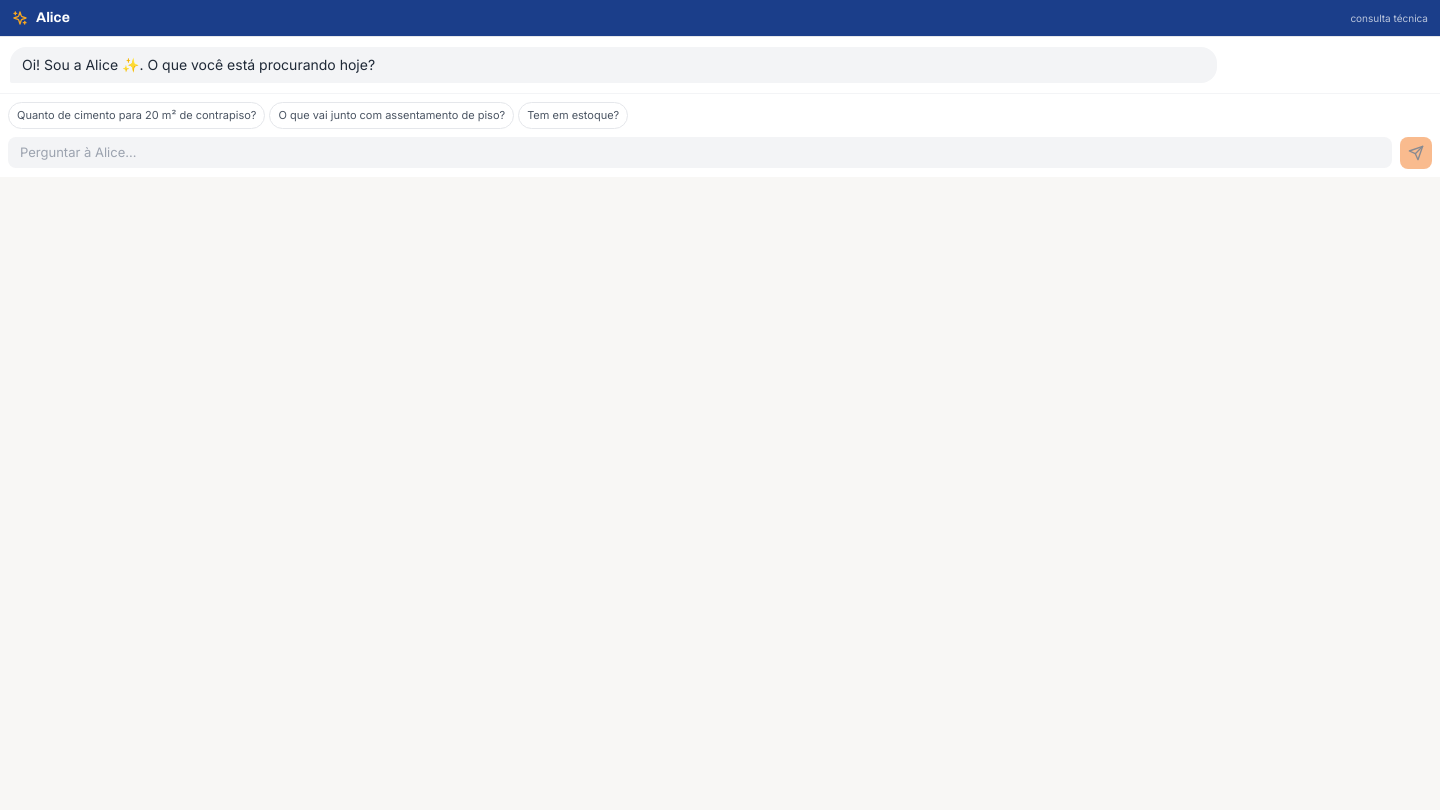
Test: AliceBalcao › responde e renderiza a lista de materiais com total
This screenshot has width=1440, height=810.
Step 1. Type "quanto de cimento para o contrapiso?" into the field named "mensagem para a alice no balcão" → (700, 153), box [8,137,1392,168]
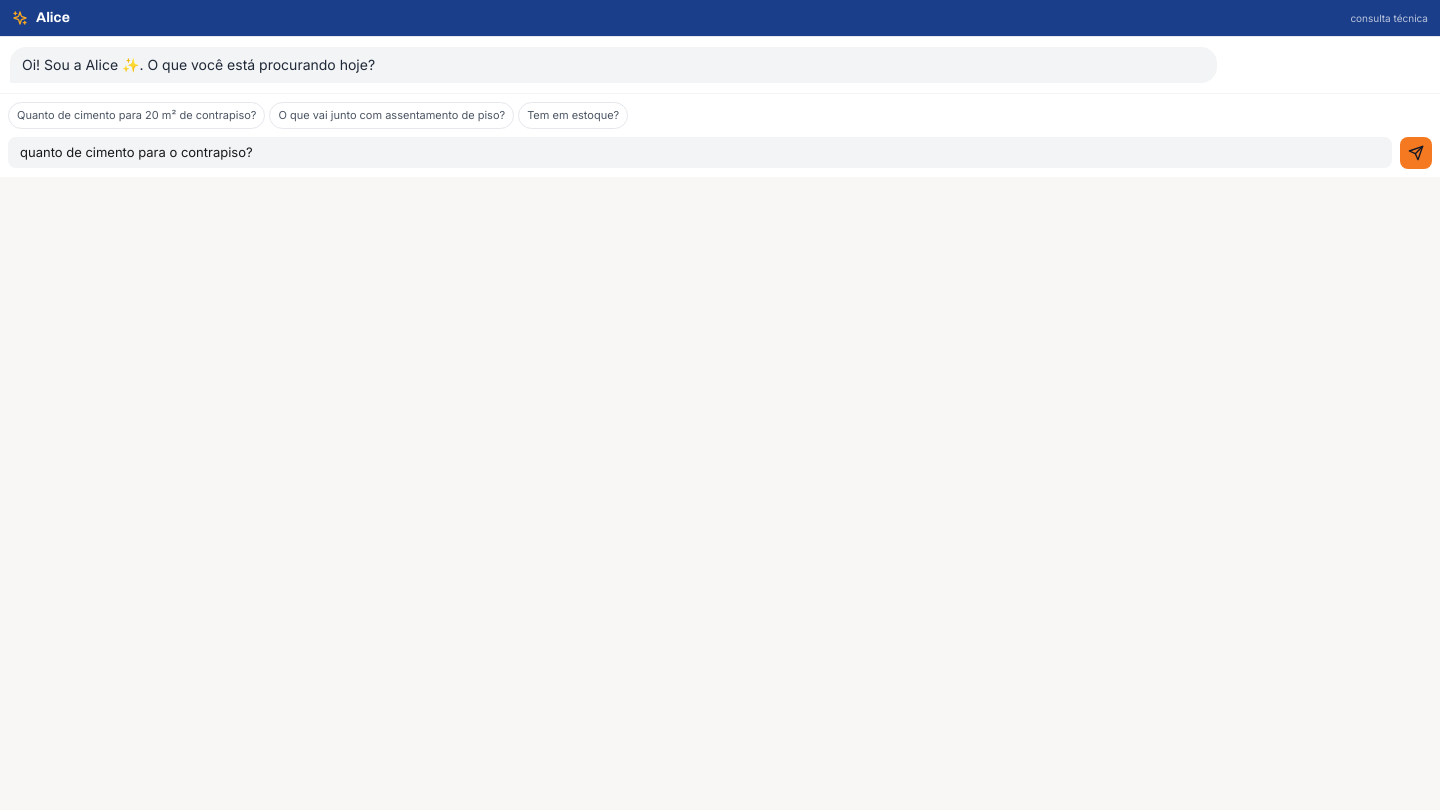
Step 2. Click the button named "enviar pergunta" → (1416, 152), box [1400,136,1432,168]
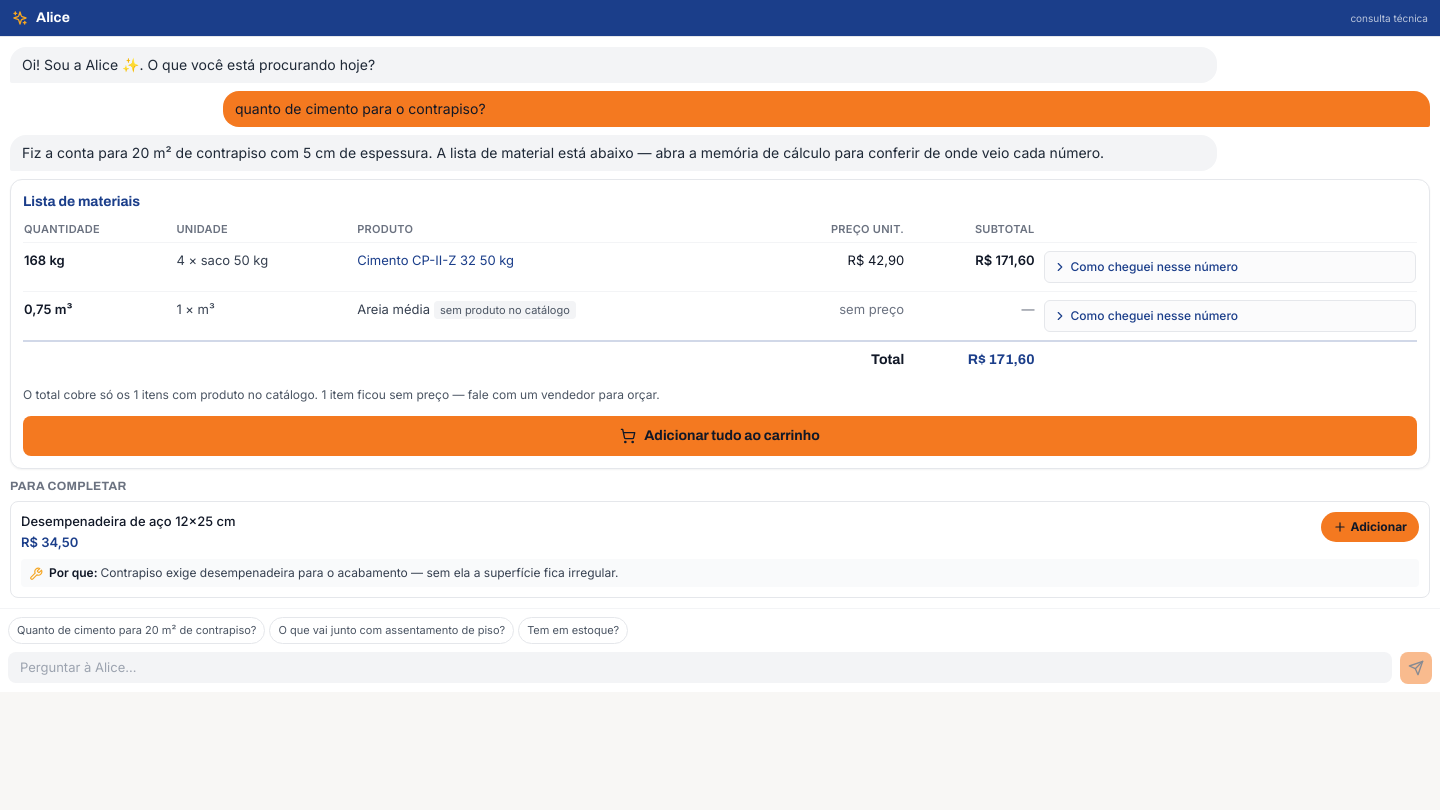
Now the element "Lista de materiais" is shown, box [10,179,1430,468]
Now the cell with test id "material-total" reads "R$ 171,60", box [968,352,1035,366]
